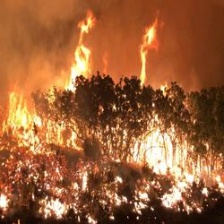fire: (138, 128, 224, 213), (43, 179, 128, 220), (5, 95, 50, 161), (66, 12, 101, 93), (137, 21, 156, 84)
